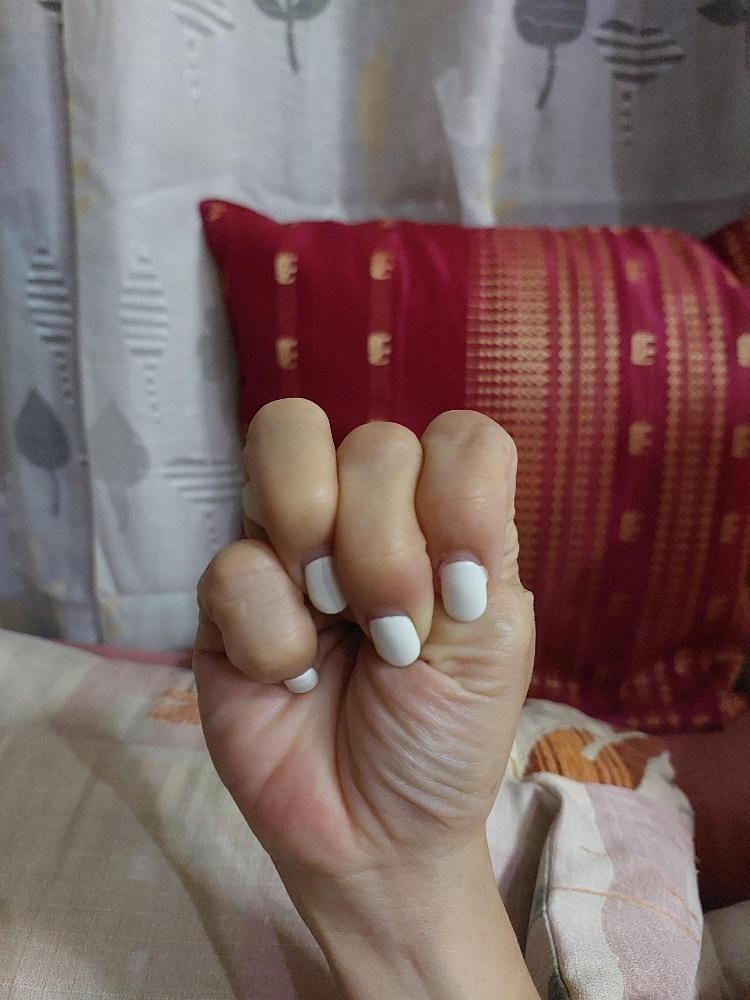m: (189, 390, 539, 861)
